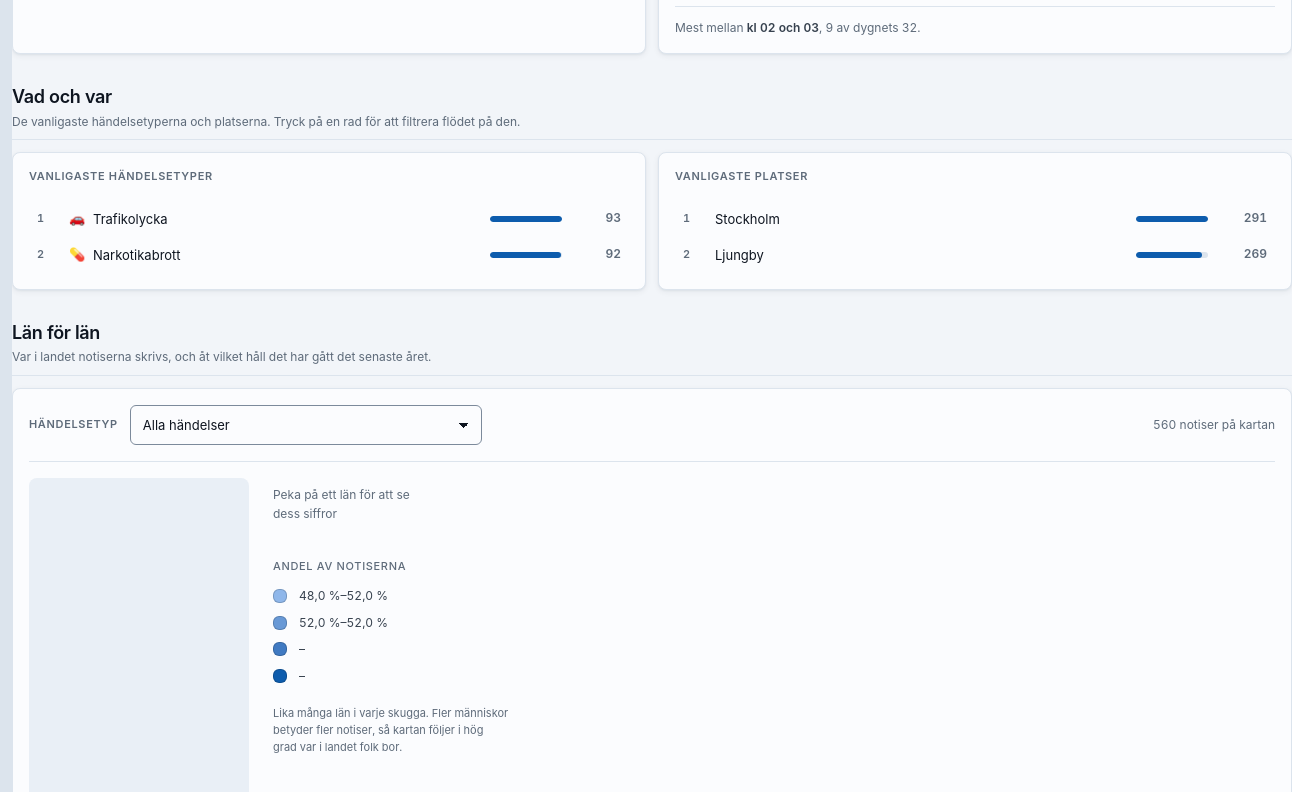
StatsView › län för län › goes back to the whole record
(page scrolled)
Select "Narkotikabrott" in the dropdown labelled "Händelsetyp": coordinates (306, 425) [130,405,482,445]
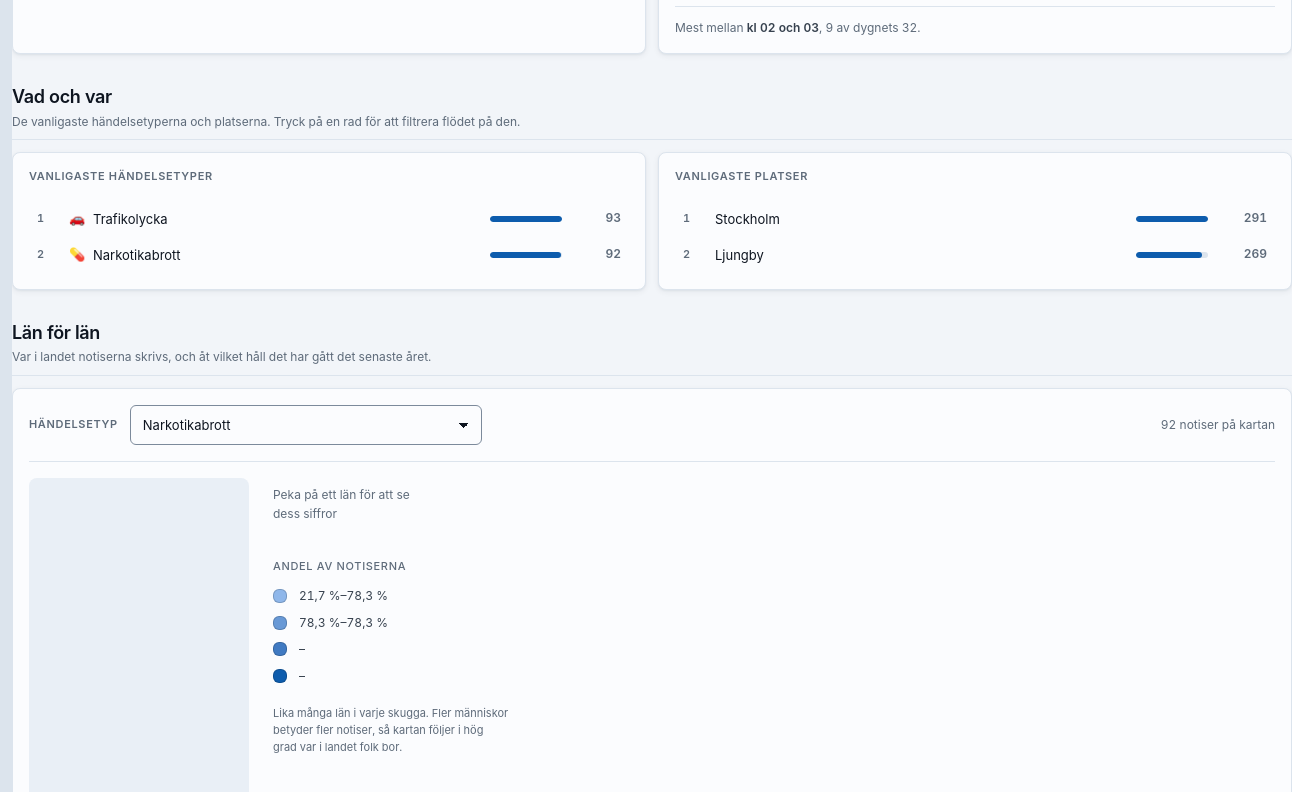
Select "Alla händelser" in the dropdown labelled "Händelsetyp": coordinates (306, 425) [130,405,482,445]
(page scrolled)
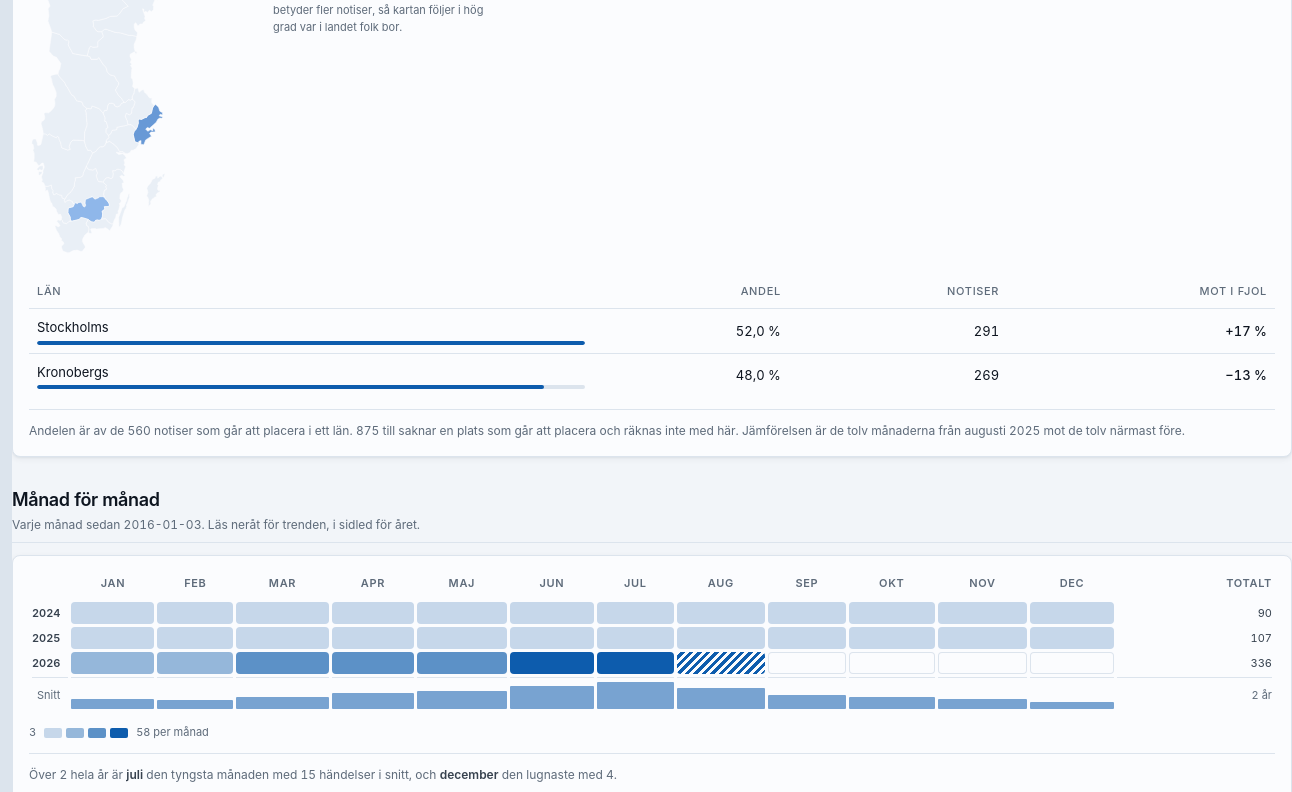
Expected: the text "560 notiser som går att placera" is shown, [29,409,1275,440]
